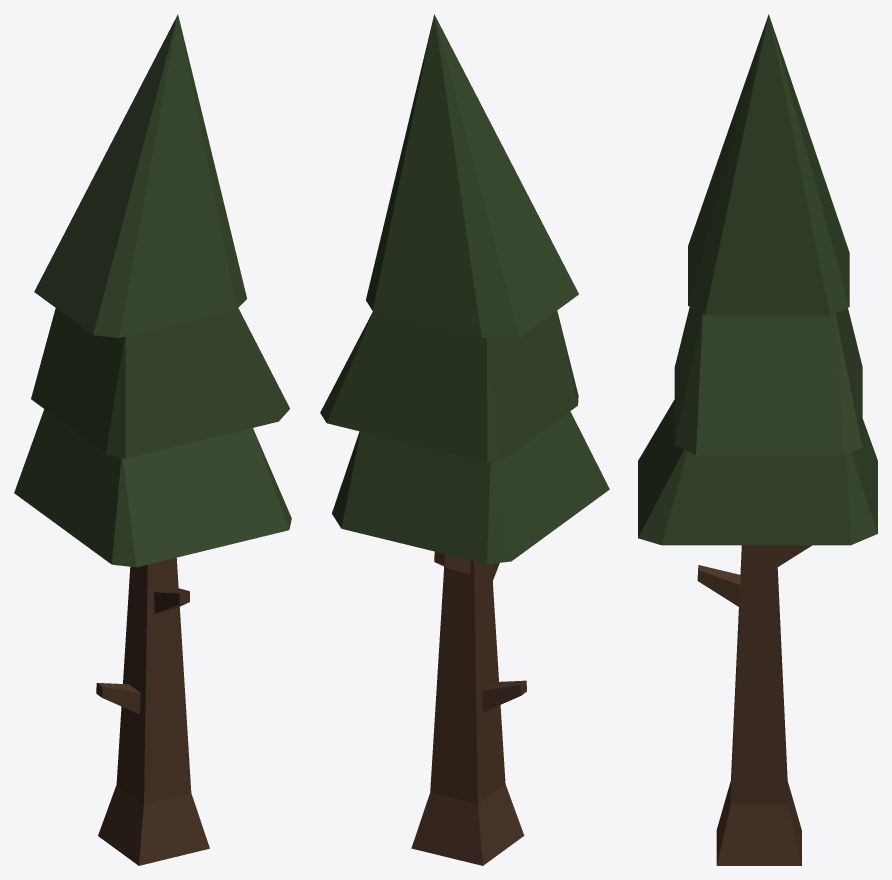
Rendered from tree_pine_tall_a_detailed.glb.
3 renders of one model, left to right at view 1: azimuth 30°, elevation 25°; view 2: azimuth 150°, elevation 25°; view 3: azimuth 270°, elevation 25°, orthographic. The views are drawn at different scales.
Visible parts, largest first — view 1: tree_pineTallA_detailed; view 2: tree_pineTallA_detailed; view 3: tree_pineTallA_detailed.
Part boxes in pixels (left/top/right/bottom): tree_pineTallA_detailed: left=14, top=14, right=291, bottom=865; tree_pineTallA_detailed: left=320, top=14, right=609, bottom=865; tree_pineTallA_detailed: left=638, top=14, right=877, bottom=865.
Size of the model in its own units: 0.3863 by 1.53 by 0.392.
